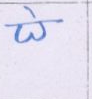e_matra: (23, 6, 38, 19)
